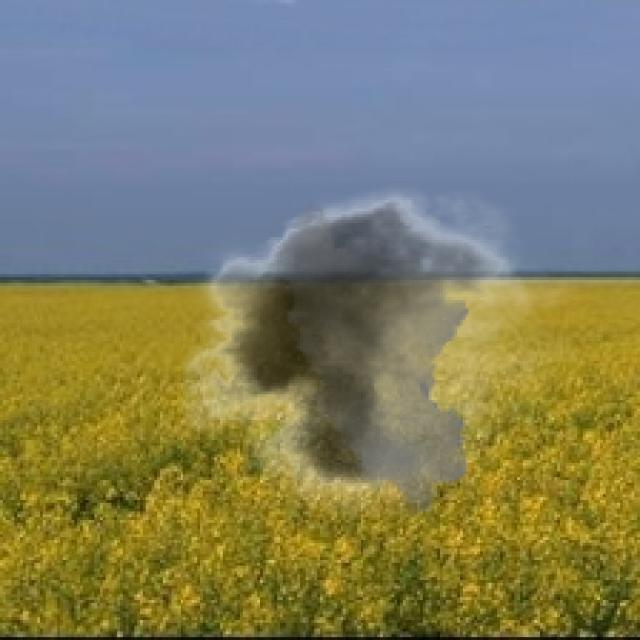smoke: (160, 172, 580, 517)
